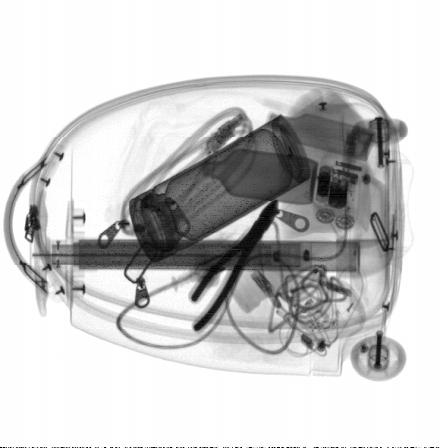Pliers: (190, 198, 280, 334)
